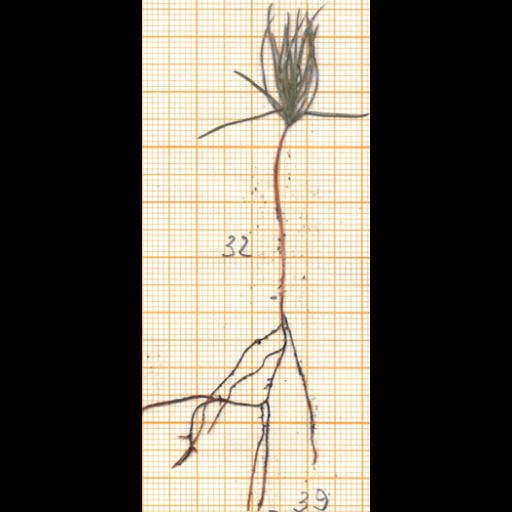flowerPinus: (218, 6, 361, 129)
rootPinus: (147, 305, 317, 511)
stemPinus: (273, 127, 287, 298)
